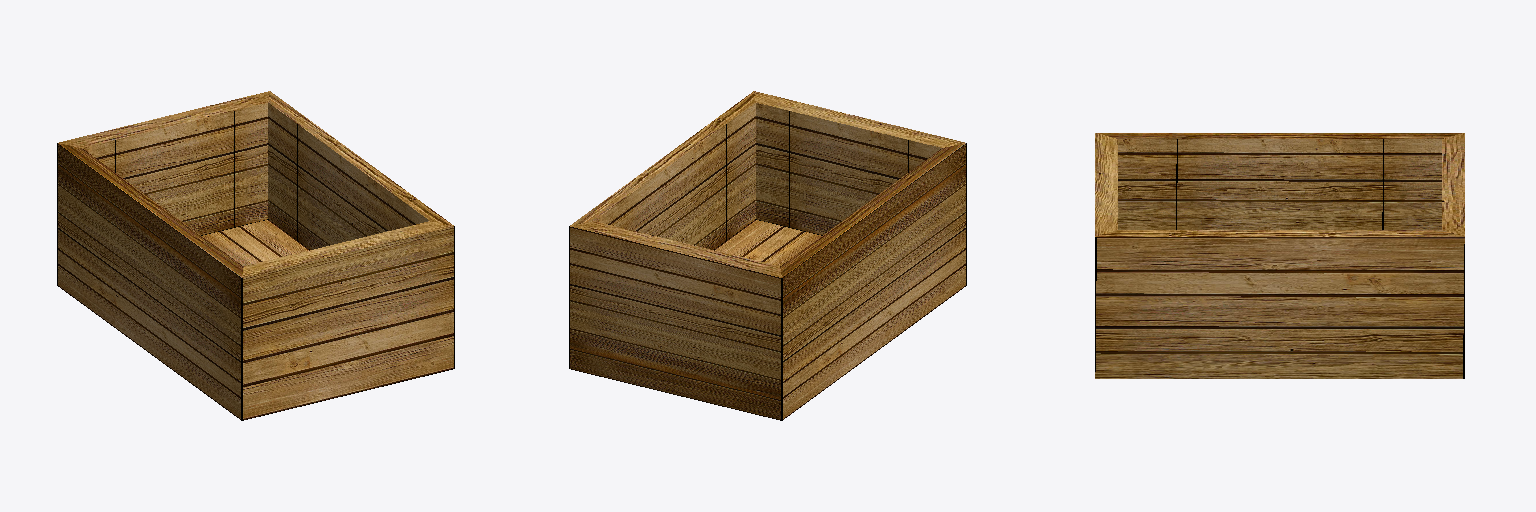
3 views of the same model, side by side, from view 1: azimuth 30°, elevation 25°; view 2: azimuth 150°, elevation 25°; view 3: azimuth 270°, elevation 25° (orthographic).
Visible parts, largest first — view 1: Cube; view 2: Cube; view 3: Cube.
Part boxes in pixels (x1,y1,x2,y2): Cube: (57,91,454,420); Cube: (569,91,966,420); Cube: (1095,133,1464,378).
Size of the model in its own units: 3.12 by 2 by 4.69.
1 materials, 1 textured.